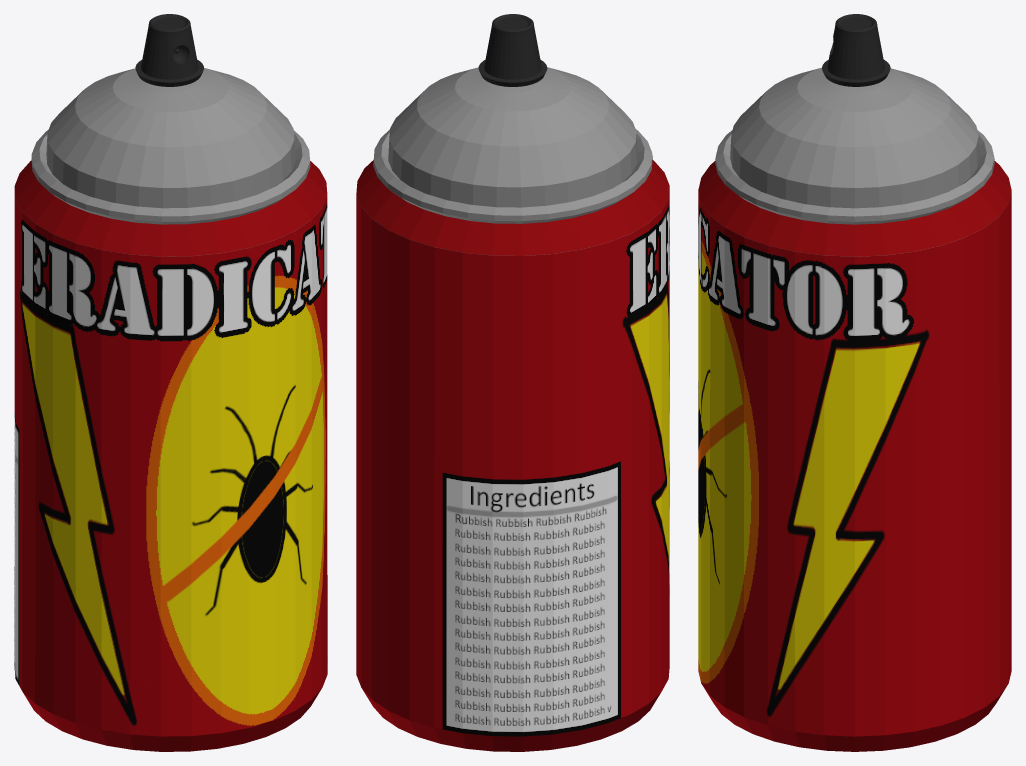
The model's file is bugspray.fbx.
The picture shows the model from 3 angles, left to right: view 1: azimuth 30°, elevation 25°; view 2: azimuth 150°, elevation 25°; view 3: azimuth 270°, elevation 25°; orthographic projection.
Parts seen in each view (by area): view 1: Cylinder; view 2: Cylinder; view 3: Cylinder.
Part boxes in pixels (left/top/right/bottom): Cylinder: left=14, top=14, right=327, bottom=751; Cylinder: left=356, top=14, right=669, bottom=751; Cylinder: left=698, top=14, right=1011, bottom=751.
Bounding box in the file's own units: 338 × 794 × 338.
